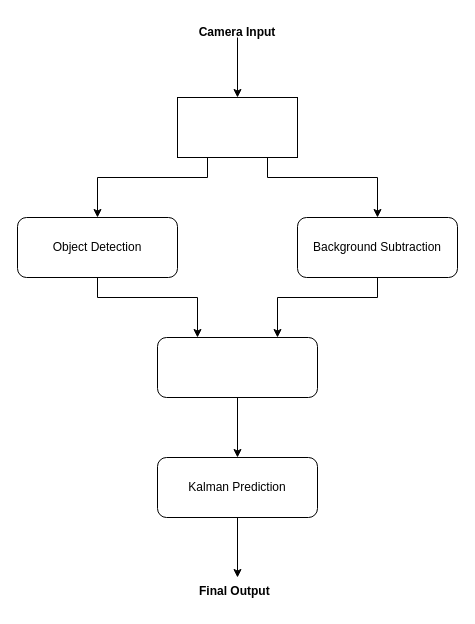
Image size: 475x624. Some labels were removed from this diagram. The shapes that lost their labels are listed below. From the top down, each one's centre as x and y in pixels, then its label:
point (237, 127): Image Frame
point (237, 367): Filtering
